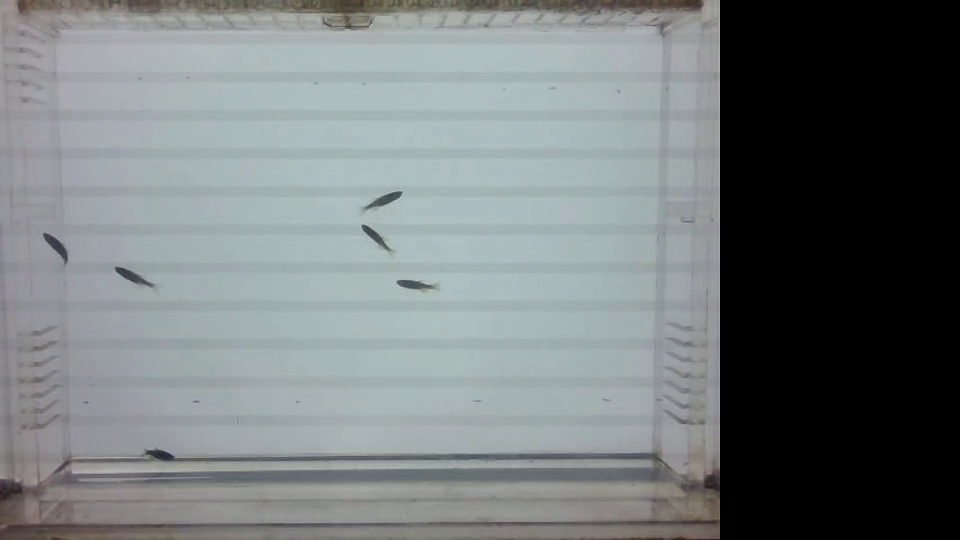fish: (388, 270, 444, 308), (108, 261, 161, 294), (348, 220, 396, 256), (40, 229, 76, 266), (354, 188, 406, 212), (136, 440, 178, 468)
